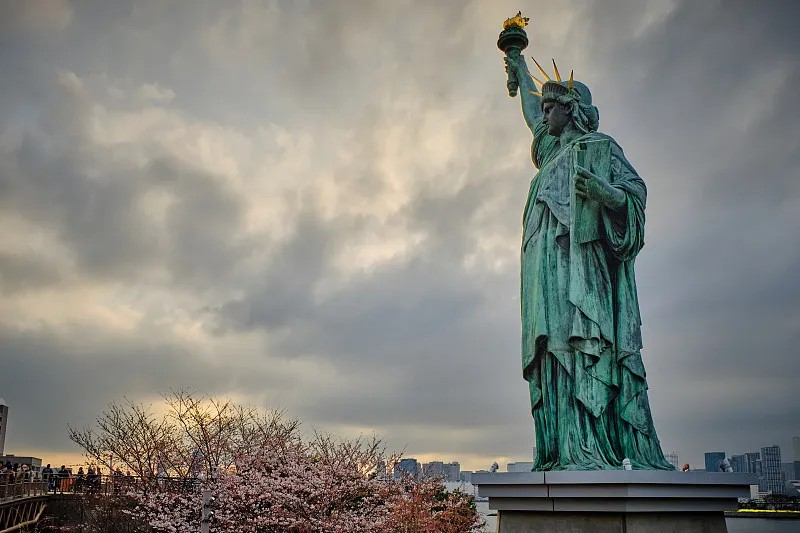SL: (471, 9, 757, 533)
